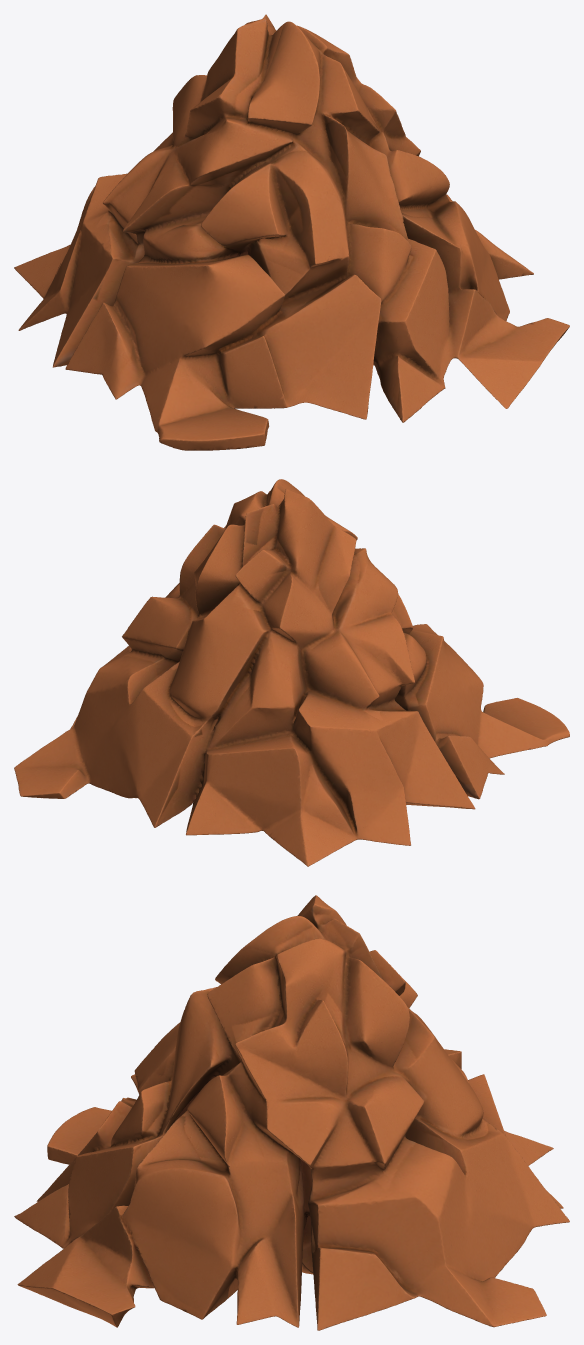
File: tatu_cupinzeiro.glb
The picture shows the model from 3 angles, top to bottom: view 1: azimuth 30°, elevation 25°; view 2: azimuth 150°, elevation 25°; view 3: azimuth 270°, elevation 25°; orthographic projection. The views are drawn at different scales.
Bounding box in the file's own units: 1.31 × 0.8854 × 1.35.
Materials: 1 (1 with a texture image).
